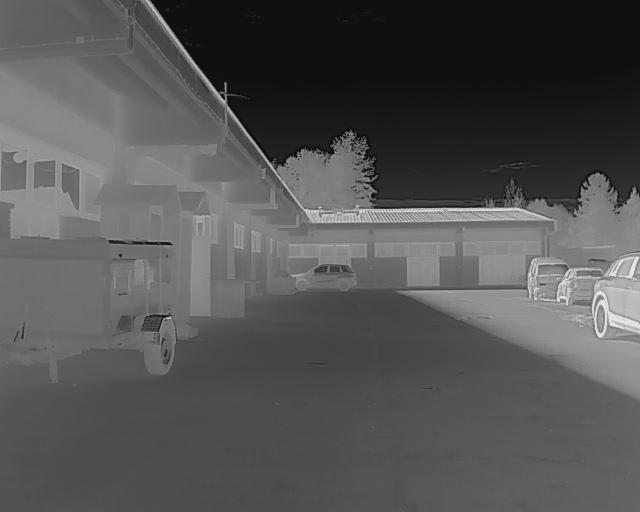drone: (308, 201, 370, 222)
